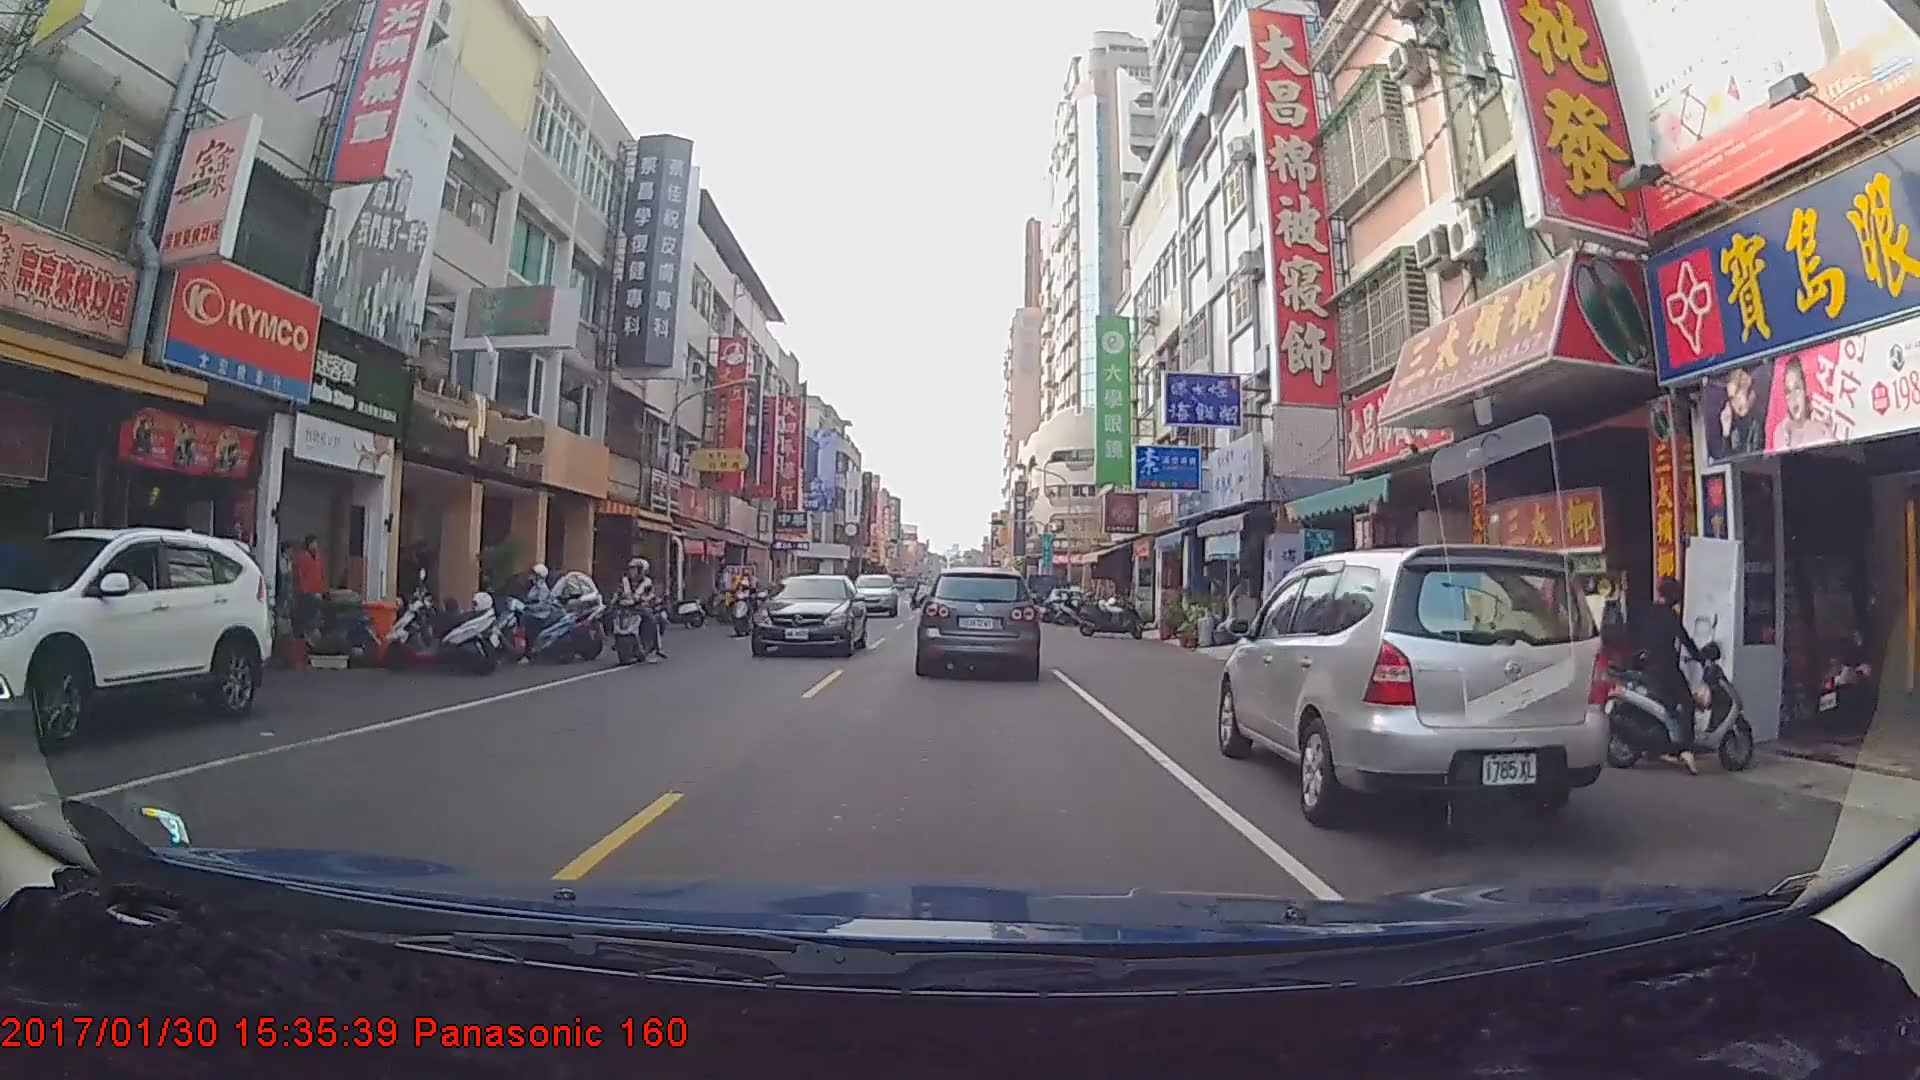pedestrian: (291, 530, 335, 638), (270, 534, 297, 624)
rider: (1585, 572, 1766, 781), (604, 552, 671, 667), (740, 576, 769, 634)
vehicle: (1216, 542, 1605, 826), (0, 526, 265, 749), (916, 567, 1039, 676), (752, 573, 866, 658), (847, 571, 898, 616)
